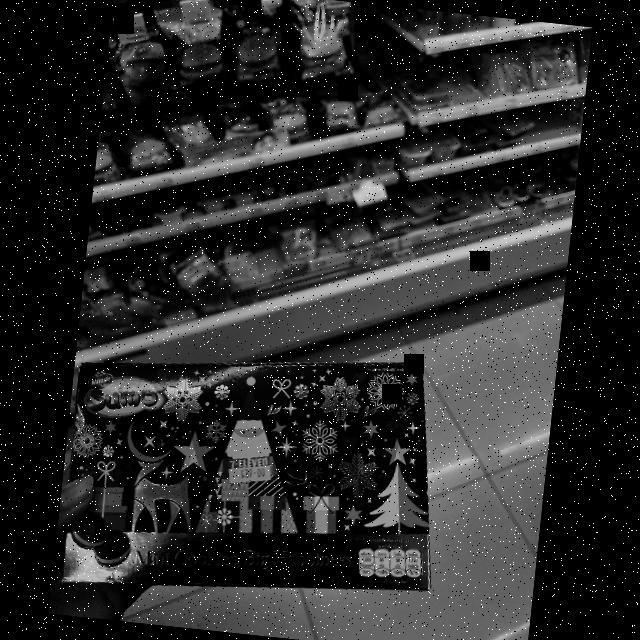cardboard_box: (50, 308, 446, 630)
